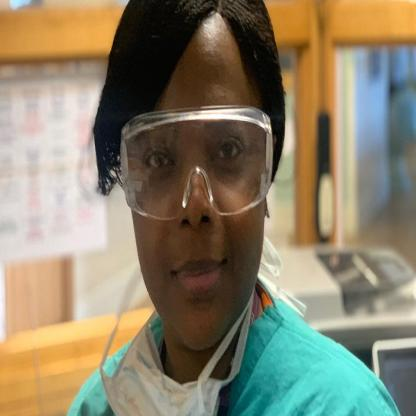oculos: (124, 107, 272, 218)
